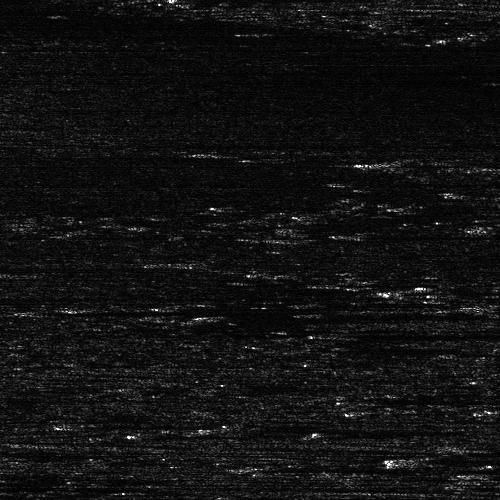object: (378, 284, 461, 295), (167, 313, 260, 322), (371, 454, 434, 465), (26, 421, 119, 428), (25, 306, 88, 315), (442, 442, 500, 451), (279, 310, 332, 317), (350, 161, 413, 166), (150, 0, 233, 3), (475, 303, 500, 308)
shadow: (56, 306, 440, 315), (213, 313, 454, 322), (306, 310, 468, 317), (403, 454, 500, 465), (73, 421, 222, 428), (420, 284, 500, 295), (192, 0, 357, 3), (382, 161, 466, 166)
